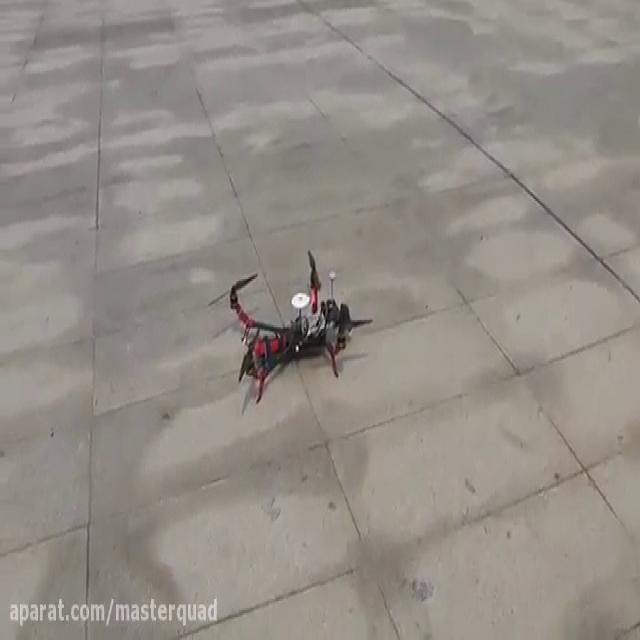drone: (205, 246, 375, 404)
